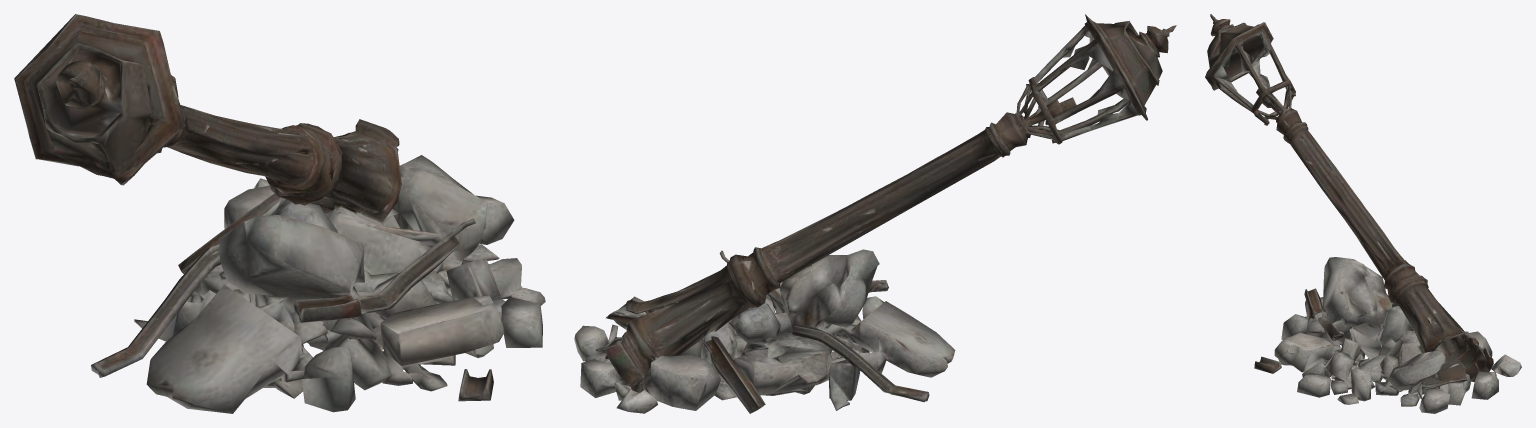
Rendered from lampfall.glb.
The picture shows the model from 3 angles, left to right: view 1: azimuth 30°, elevation 25°; view 2: azimuth 150°, elevation 25°; view 3: azimuth 270°, elevation 25°; orthographic projection. The views are drawn at different scales.
Bounding box in the file's own units: 1.82 × 1.27 × 1.49.
Materials: 1 (1 with a texture image).
